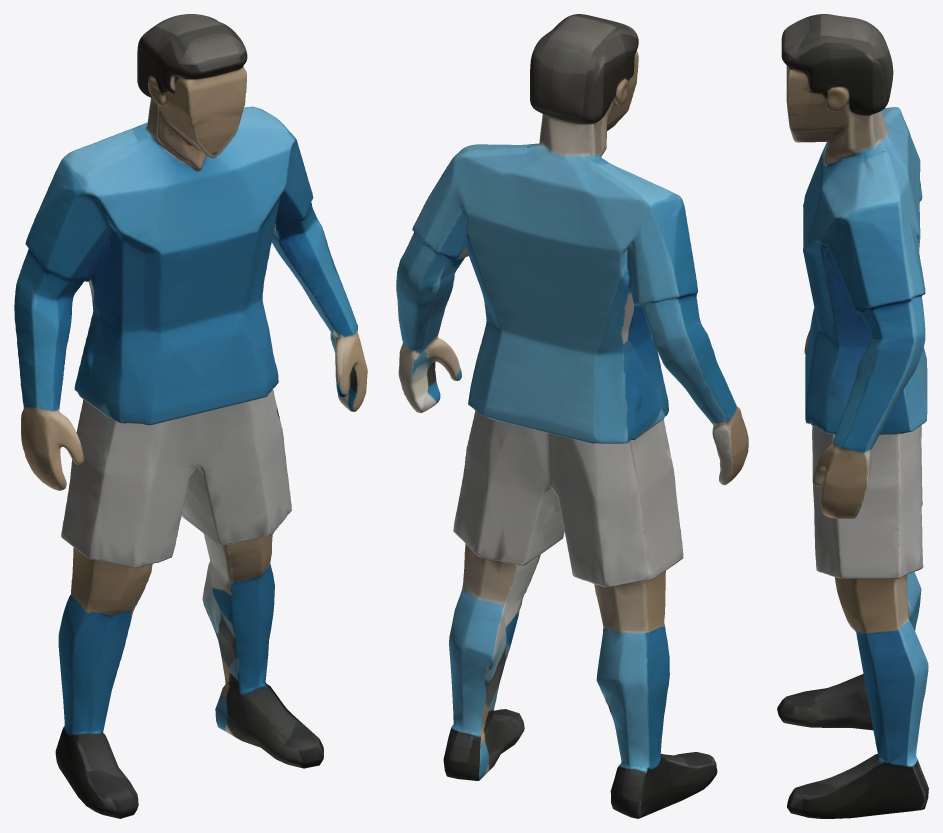
The model's file is Defender_fbx_2.fbx.
3 views of the same model, side by side, from view 1: azimuth 30°, elevation 25°; view 2: azimuth 150°, elevation 25°; view 3: azimuth 270°, elevation 25° (orthographic).
Visible parts, largest first — view 1: Character; view 2: Character; view 3: Character.
Part boxes in pixels (x1=…): Character: x1=14, y1=14, x2=367, y2=818; Character: x1=396, y1=14, x2=748, y2=818; Character: x1=777, y1=14, x2=928, y2=818.
Bounding box in the file's own units: 46.46 × 100 × 18.54.
